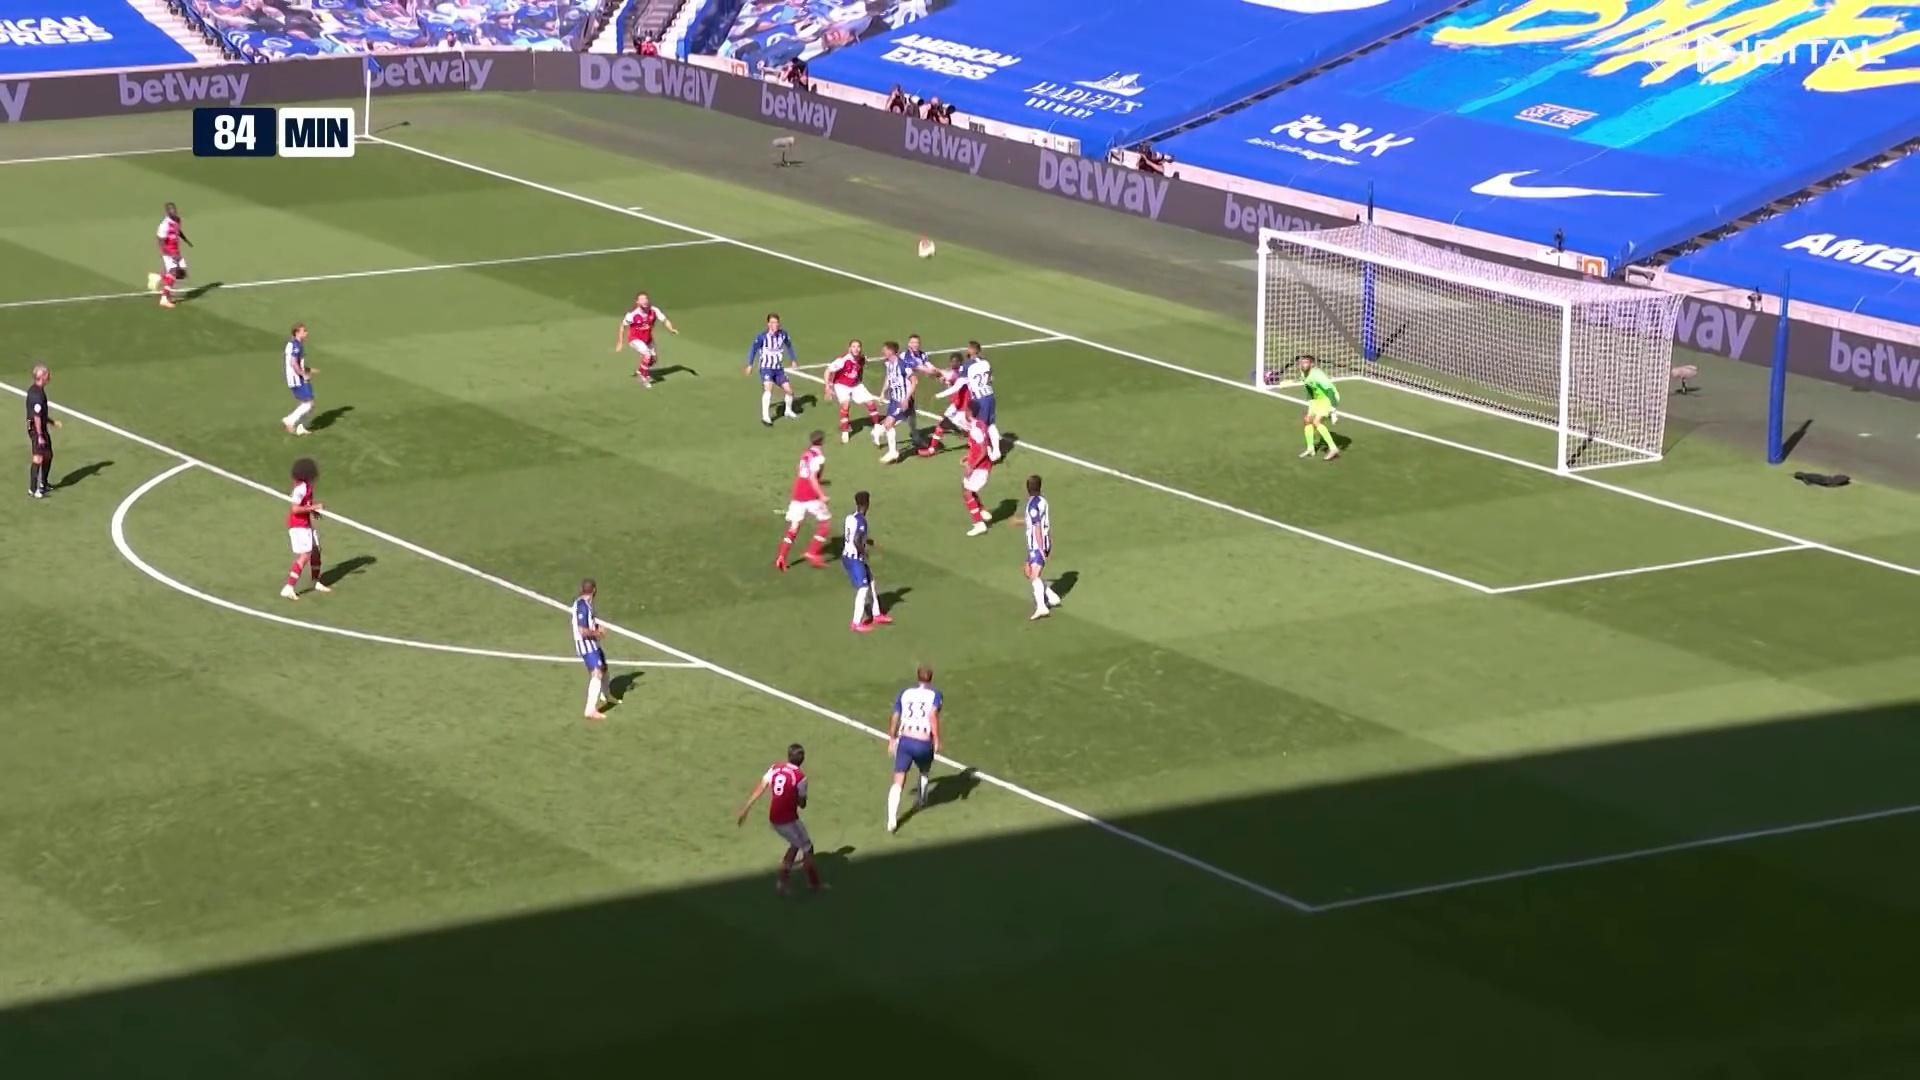ball: (919, 237, 938, 261)
goalkeeper: (1295, 354, 1349, 463)
player: (737, 738, 830, 902), (879, 662, 951, 835), (780, 434, 849, 577), (274, 453, 336, 601), (836, 490, 898, 638), (567, 577, 627, 725), (922, 345, 992, 464), (1009, 472, 1064, 621), (962, 393, 1014, 539), (867, 337, 925, 467), (821, 341, 887, 449), (955, 341, 1012, 466), (748, 313, 805, 430), (614, 291, 678, 392), (901, 329, 947, 457), (276, 321, 320, 438), (148, 201, 194, 312)
referee: (20, 361, 64, 503)
